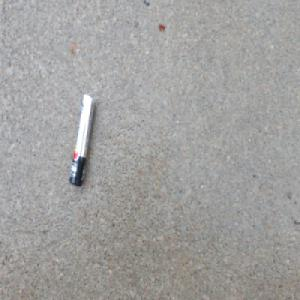Battery: (68, 91, 95, 189)
